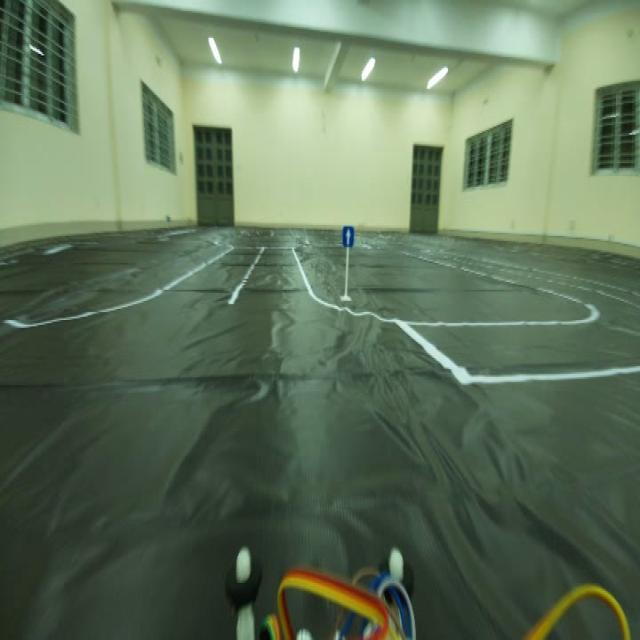onewayroad: (338, 219, 358, 253)
